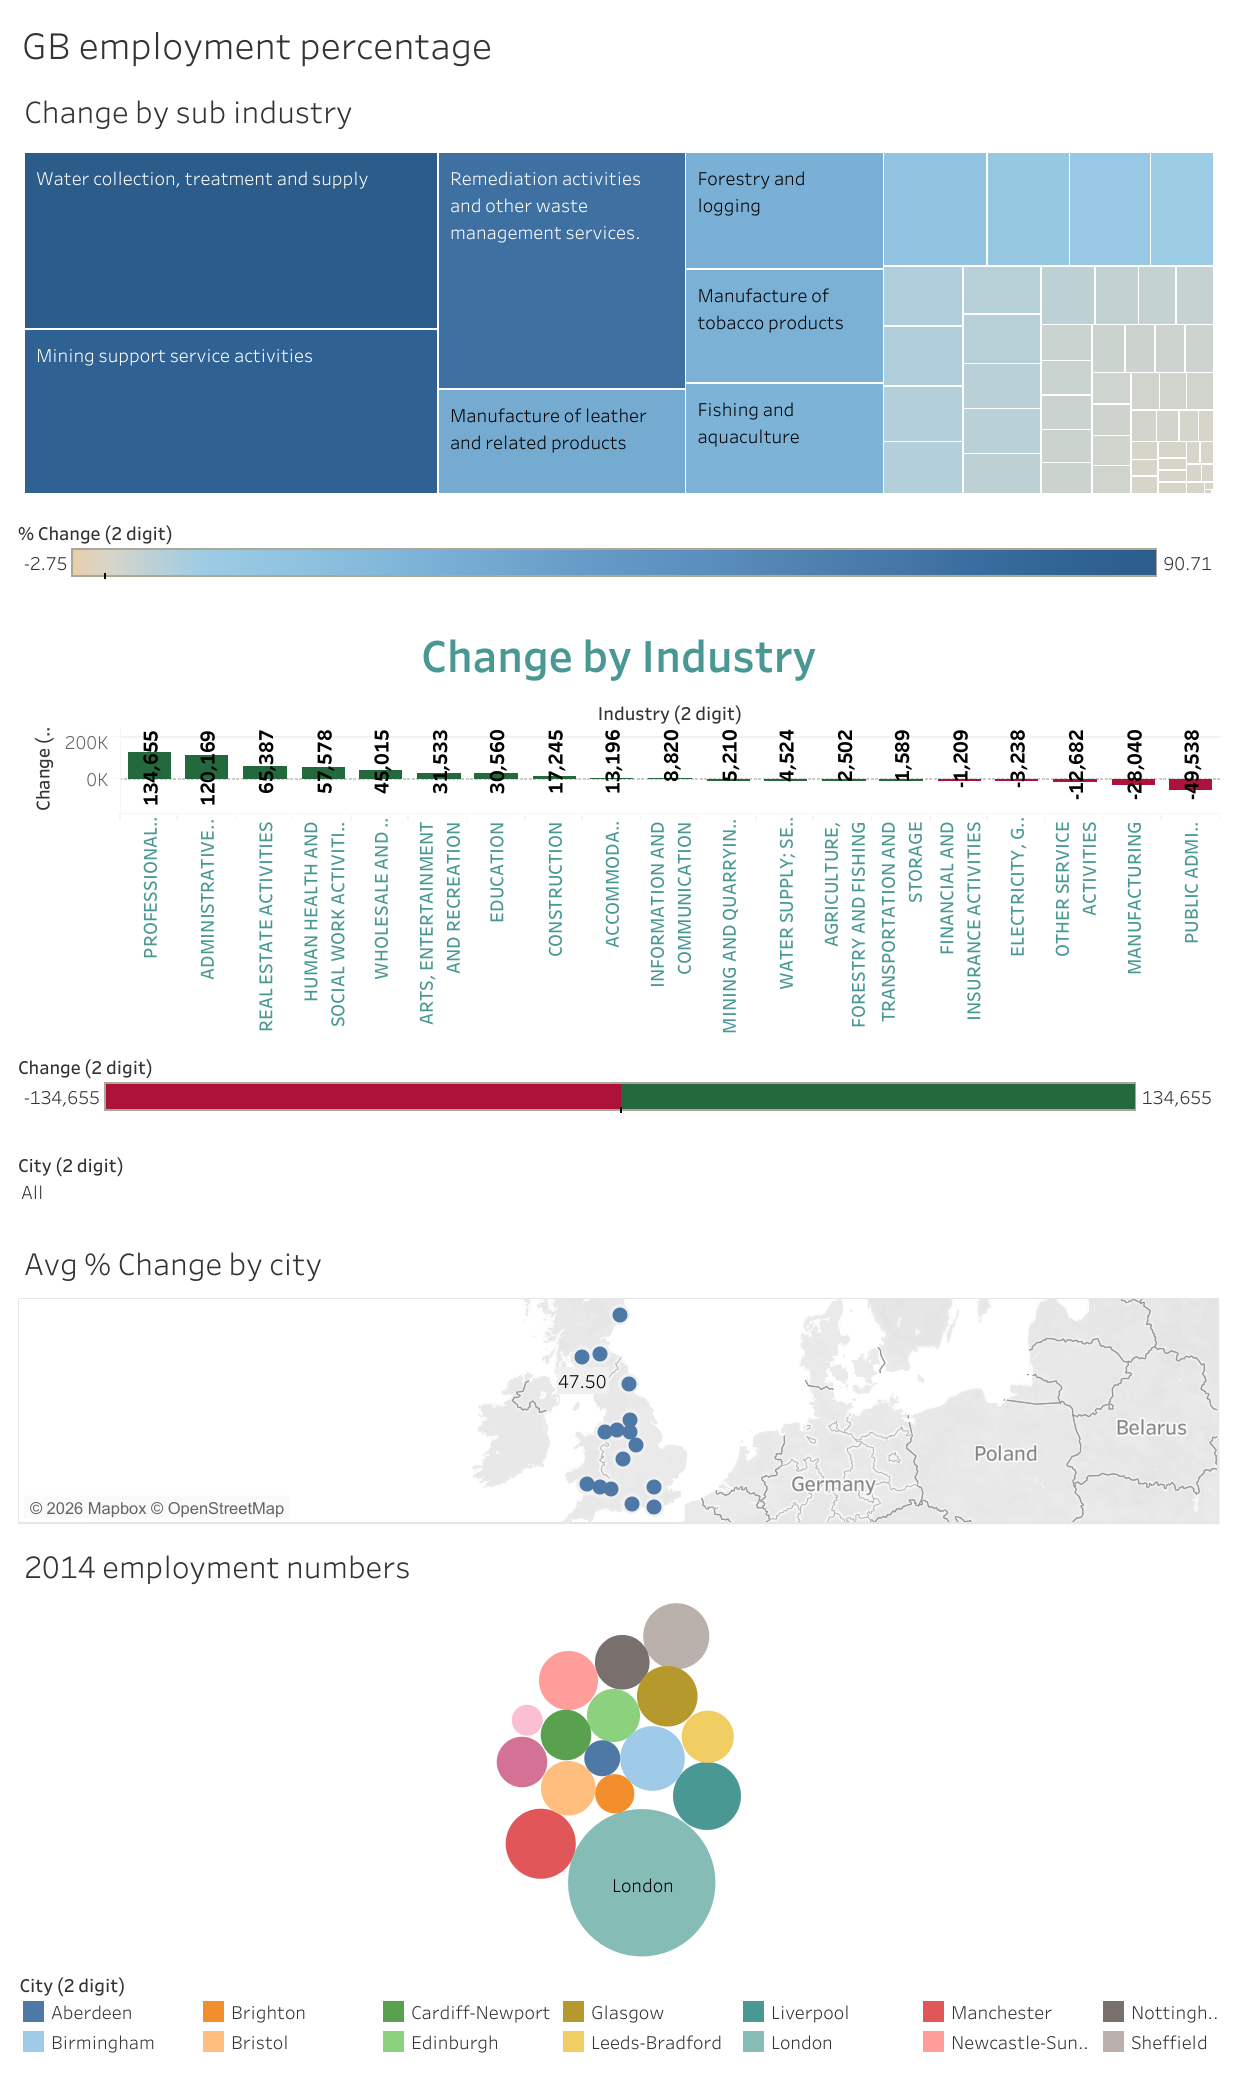

What the dashboard file says about the page in this screenshot:
{"tool":"tableau","page":{"name":"Dashboard 1","canvas":[650,860],"ordinal":0},"visuals":[{"type":"title","box":[8,8.5,634,61.8]},{"type":"worksheet","title":"Change by sub-industry","mark":"Automatic","box":[8,70.3,208,390.6]},{"type":"worksheet","title":"Change by Industry","mark":"Automatic","rows":["Change (2 digit)"],"cols":["SIC-1 name"],"box":[216,70.3,266,390.6]},{"type":"legend","title":"Change by Industry","param":"[federated.17l8weo13lif93161fhrp1cqmhty].[sum:Change (2 digit):qk]","box":[482,70.3,160,86.3]},{"type":"worksheet","title":"Avg % Change by city","mark":"Automatic","box":[482,156.6,160,202.8]},{"type":"legend","title":"2014 employment numbers","param":"[federated.17l8weo13lif93161fhrp1cqmhty].[none:City (2 digit):nk]","box":[482,359.5,160,202.8]},{"type":"worksheet","title":"2014 employment numbers","mark":"Circle","box":[8,460.9,474,390.6]},{"type":"filter","title":"Avg % Change by city","param":"[federated.17l8weo13lif93161fhrp1cqmhty].[none:City (2 digit):nk]","box":[482,562.3,160,202.8]},{"type":"legend","title":"Change by sub-industry","param":"[federated.17l8weo13lif93161fhrp1cqmhty].[sum:% Change (2 digit):qk]","box":[482,765.1,160,86.3]}]}

Visuals, with their boxes on the page's 650x860 design canvas (x1, y1, x2, y2). These are canvas units, not pixel positions in the 1236x2099 screenshot, which may show the page scaled, cropped or inside an application window:
title: x1=8 y1=8 x2=642 y2=70
"Change by sub-industry" worksheet: x1=8 y1=70 x2=216 y2=461
"Change by Industry" worksheet: x1=216 y1=70 x2=482 y2=461
"Change by Industry" legend: x1=482 y1=70 x2=642 y2=157
"Avg % Change by city" worksheet: x1=482 y1=157 x2=642 y2=359
"2014 employment numbers" legend: x1=482 y1=360 x2=642 y2=562
"2014 employment numbers" worksheet (Circle marks): x1=8 y1=461 x2=482 y2=852
"Avg % Change by city" filter: x1=482 y1=562 x2=642 y2=765
"Change by sub-industry" legend: x1=482 y1=765 x2=642 y2=851
